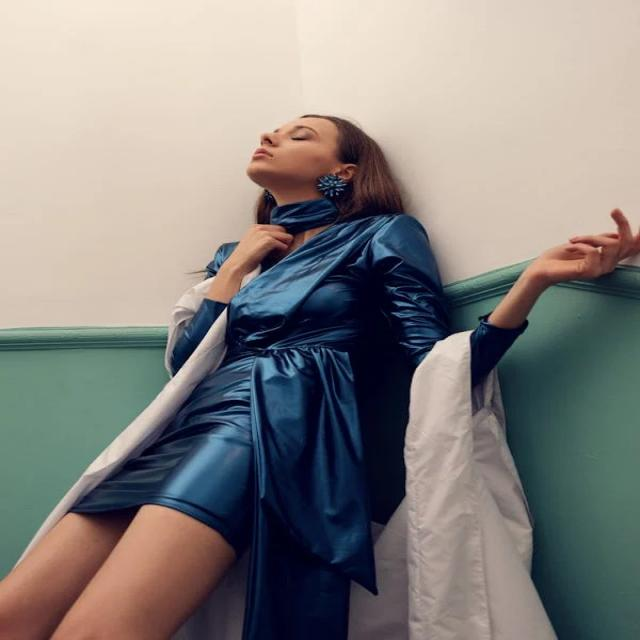Real human 2: (17, 101, 526, 640)
